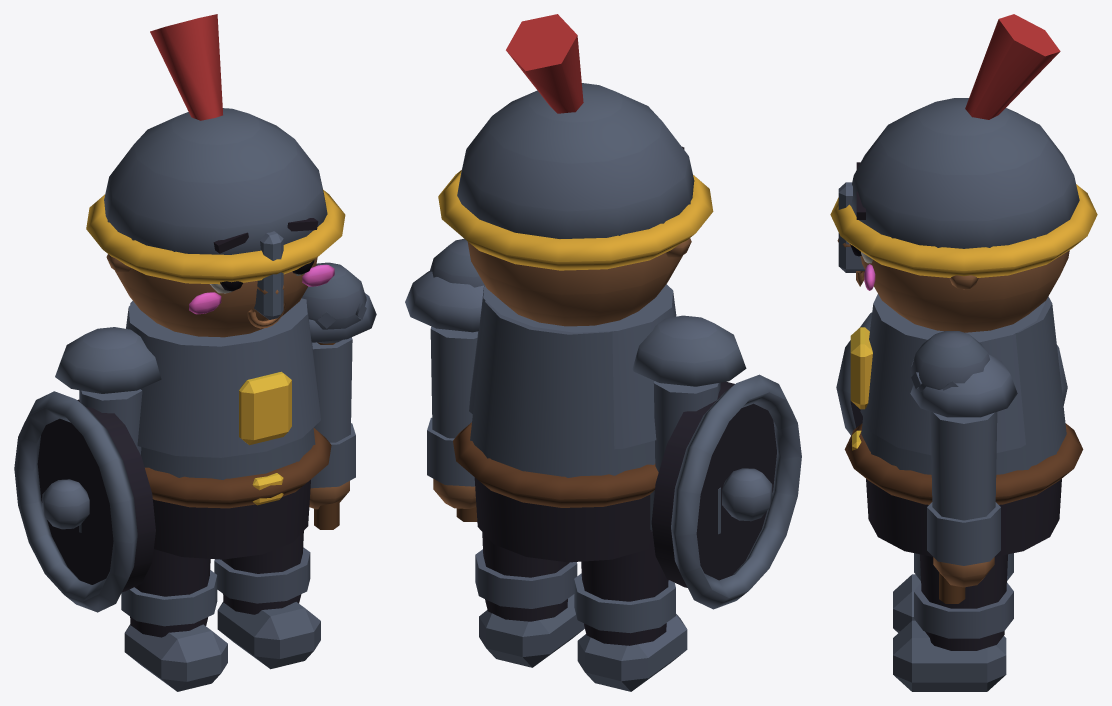
File: hero_onyx.glb
3 views of the same model, side by side, from view 1: azimuth 30°, elevation 25°; view 2: azimuth 150°, elevation 25°; view 3: azimuth 270°, elevation 25° (orthographic). The views are drawn at different scales.
Parts seen in each view (by area): view 1: body_t0_palette, arml_t0_palette, legl_t0_palette, armr_t0_palette, legr_t0_palette; view 2: body_t0_palette, arml_t0_palette, legl_t0_palette, armr_t0_palette, legr_t0_palette; view 3: body_t0_palette, armr_t0_palette, legr_t0_palette, arml_t0_palette, legl_t0_palette.
Part boxes in pixels (x1,y1,x2,y2): body_t0_palette: (86,14,345,559); arml_t0_palette: (14,327,161,612); legl_t0_palette: (121,549,227,691); armr_t0_palette: (302,262,376,529); legr_t0_palette: (214,531,320,669); body_t0_palette: (438,14,713,562); arml_t0_palette: (632,315,801,609); legl_t0_palette: (574,531,687,691); armr_t0_palette: (405,238,484,521); legr_t0_palette: (475,532,584,667); body_t0_palette: (830,14,1097,556); armr_t0_palette: (910,331,1017,603); legr_t0_palette: (893,554,1013,691); arml_t0_palette: (836,312,1067,435); legl_t0_palette: (893,553,1013,632).
Bounding box in the file's own units: 0.326 × 0.5929 × 0.224.
